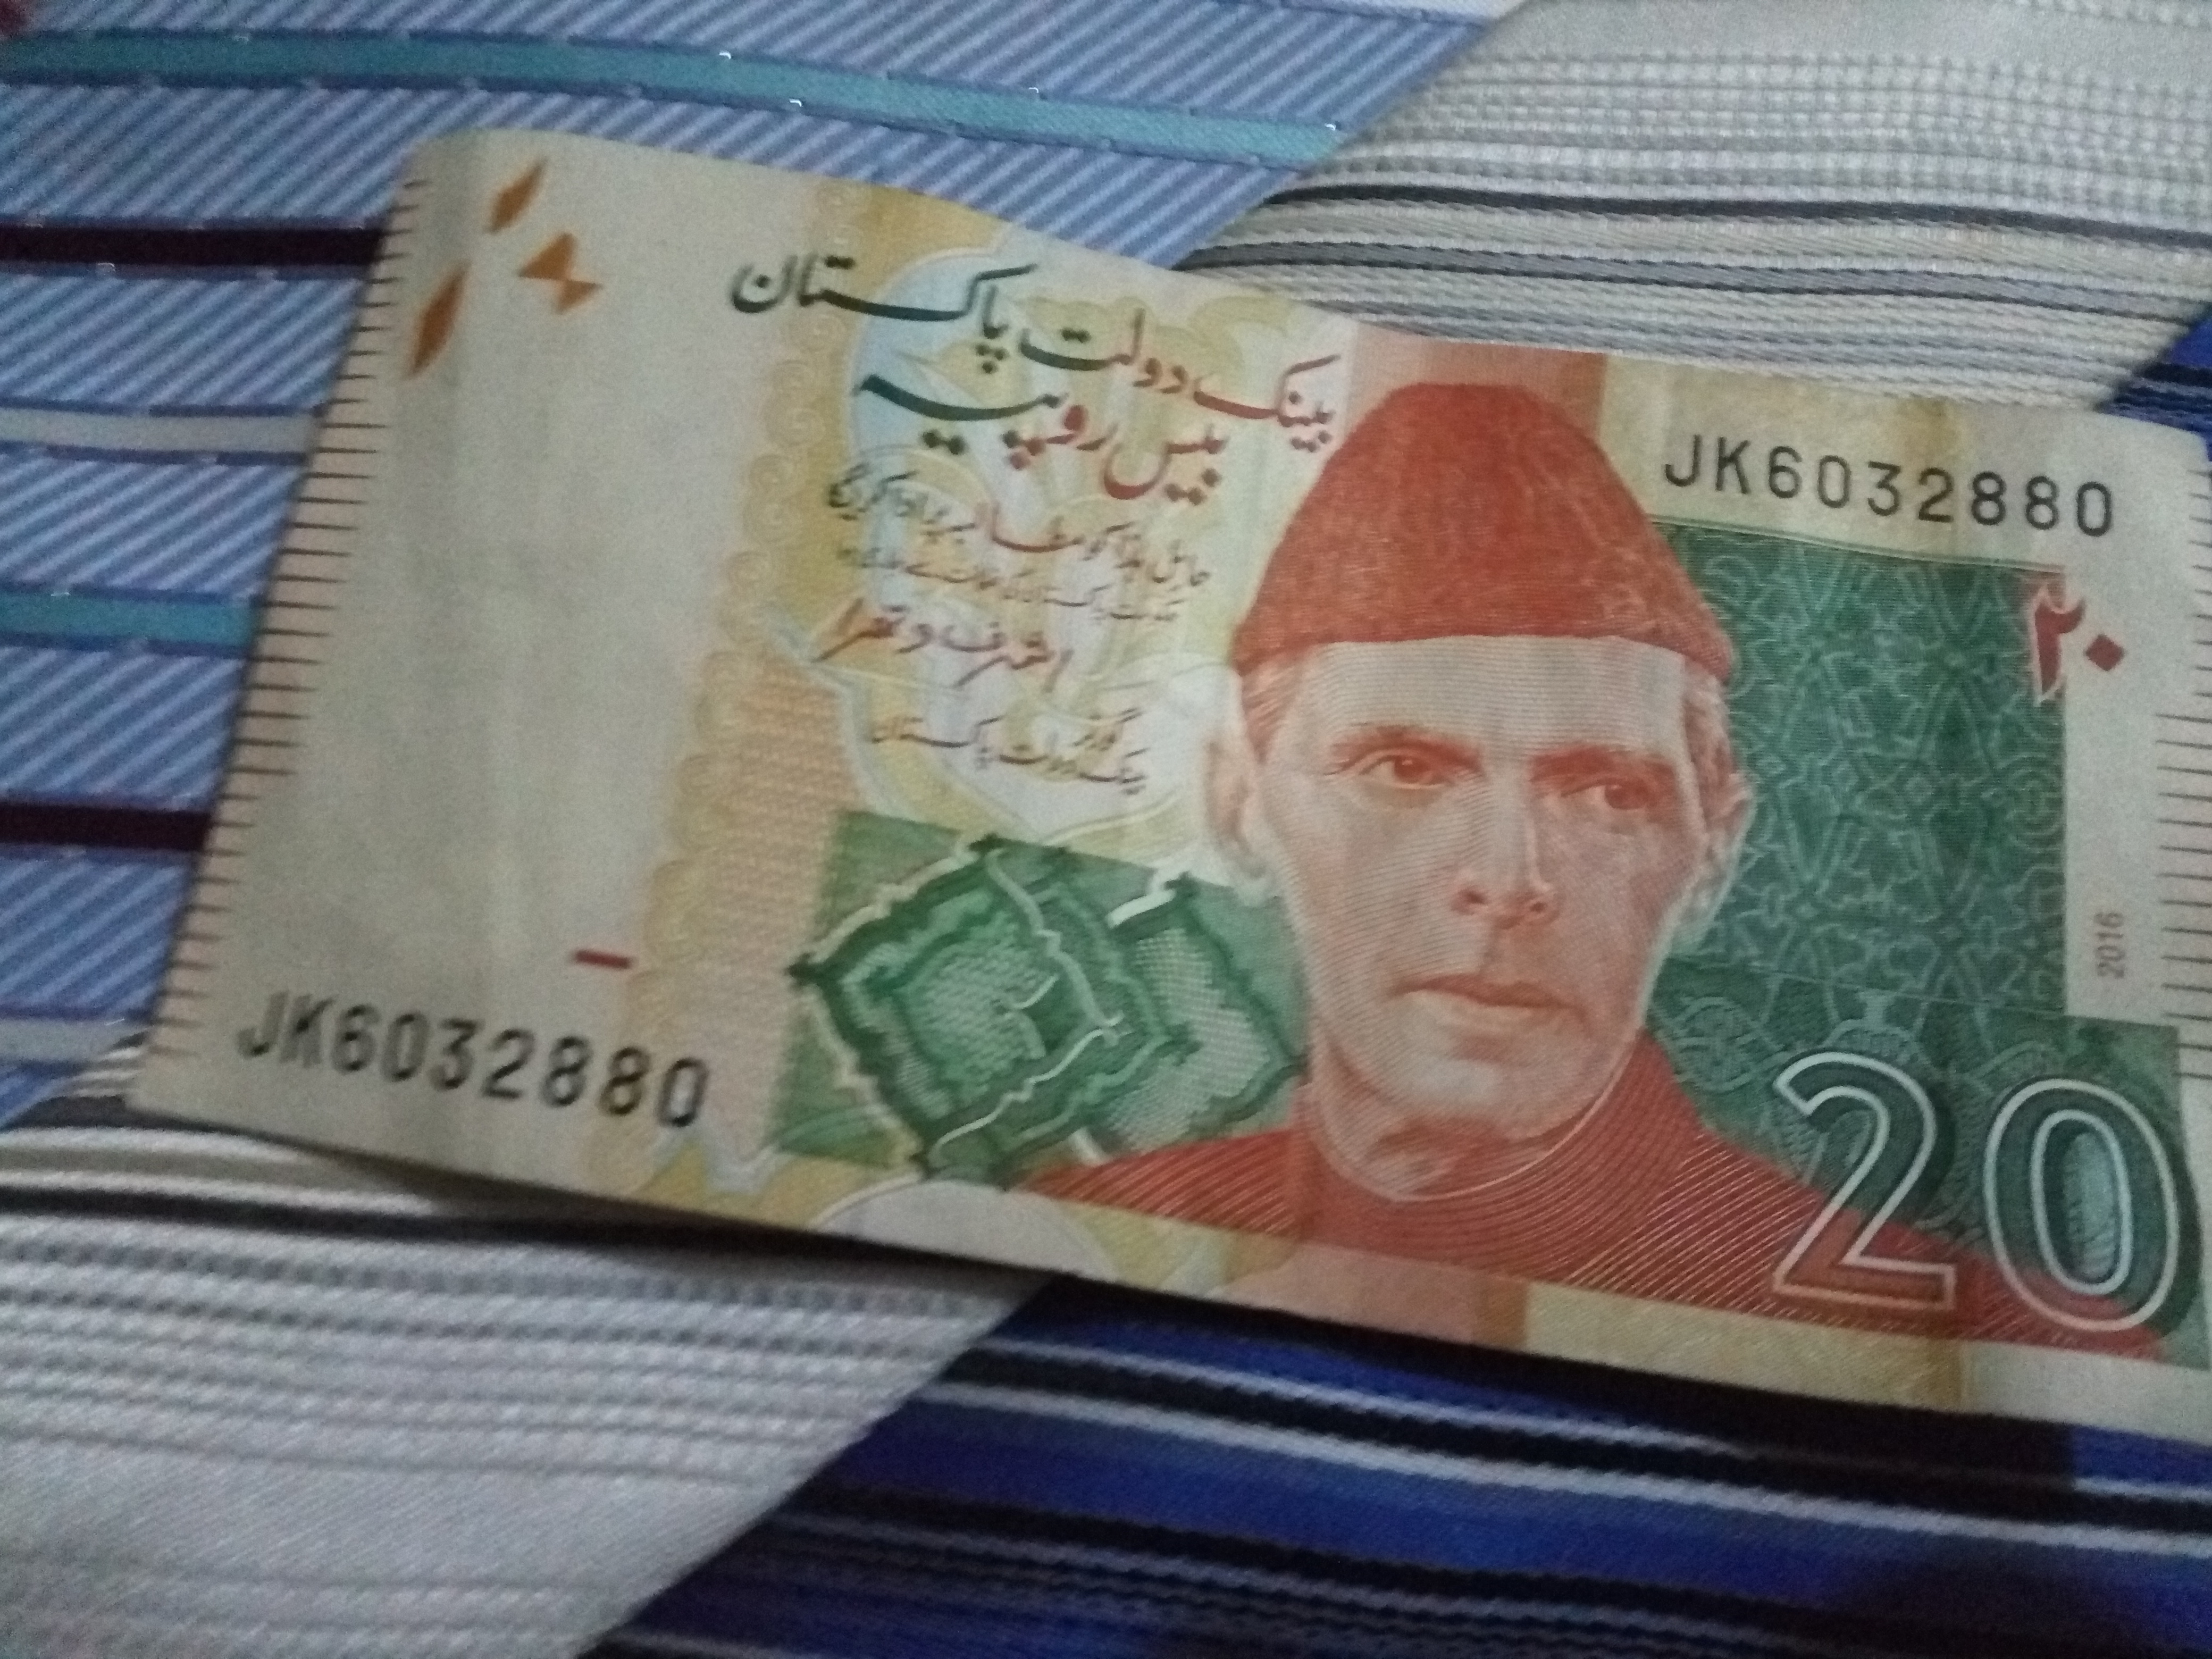20 rupee: (206, 96, 2168, 1439)
